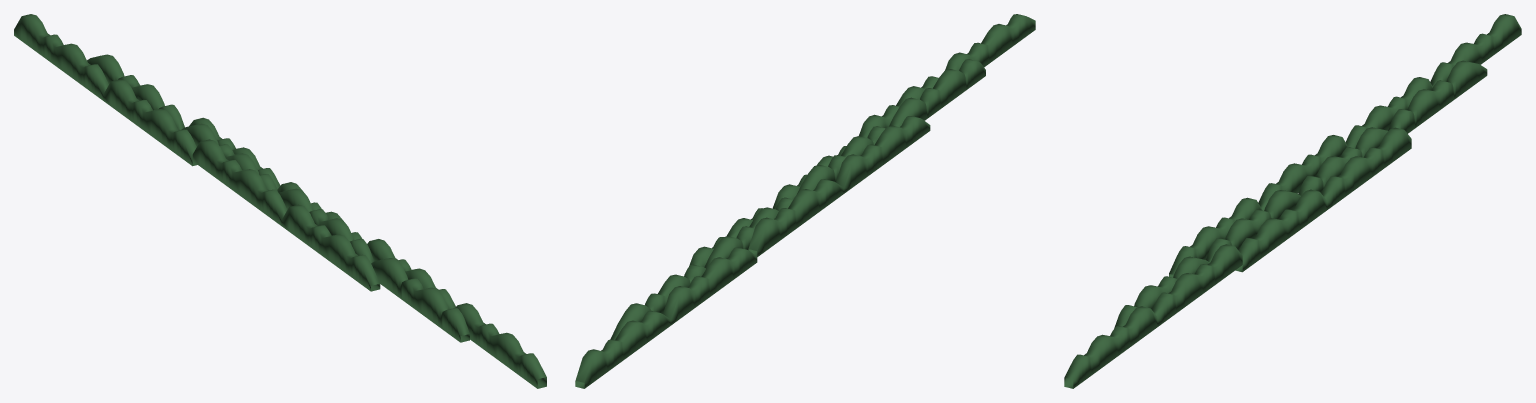
The model's file is arbustos.fbx.
3 views of the same model, side by side, from view 1: azimuth 30°, elevation 25°; view 2: azimuth 150°, elevation 25°; view 3: azimuth 330°, elevation 25° (orthographic). The views are drawn at different scales.
Parts seen in each view (by area): view 1: arbolesPrimerPlano3, arbolesPrimerPlano3.001, arbolesPrimerPlano2, arbolesPrimerPlano1, arbolesPrimerPlano2.001, arbolesPrimerPlano1.001; view 2: arbolesPrimerPlano3.001, arbolesPrimerPlano3, arbolesPrimerPlano2, arbolesPrimerPlano1, arbolesPrimerPlano2.001, arbolesPrimerPlano1.001; view 3: arbolesPrimerPlano1, arbolesPrimerPlano1.001, arbolesPrimerPlano2.001, arbolesPrimerPlano3.001, arbolesPrimerPlano3, arbolesPrimerPlano2.
Boxes of the visible parts, bbox=[...] form: arbolesPrimerPlano3: bbox=[192, 139, 380, 291]; arbolesPrimerPlano3.001: bbox=[14, 14, 197, 166]; arbolesPrimerPlano2: bbox=[279, 188, 469, 342]; arbolesPrimerPlano1: bbox=[367, 239, 546, 388]; arbolesPrimerPlano2.001: bbox=[87, 54, 277, 191]; arbolesPrimerPlano1.001: bbox=[189, 117, 362, 240]; arbolesPrimerPlano3.001: bbox=[575, 247, 757, 388]; arbolesPrimerPlano3: bbox=[748, 116, 930, 256]; arbolesPrimerPlano2: bbox=[797, 59, 985, 193]; arbolesPrimerPlano1: bbox=[859, 14, 1035, 137]; arbolesPrimerPlano2.001: bbox=[610, 197, 793, 339]; arbolesPrimerPlano1.001: bbox=[689, 146, 846, 266]; arbolesPrimerPlano1: bbox=[1064, 244, 1242, 388]; arbolesPrimerPlano1.001: bbox=[1235, 127, 1411, 272]; arbolesPrimerPlano2.001: bbox=[1298, 60, 1487, 195]; arbolesPrimerPlano3.001: bbox=[1345, 14, 1521, 148]; arbolesPrimerPlano3: bbox=[1169, 135, 1347, 277]; arbolesPrimerPlano2: bbox=[1114, 190, 1300, 328].
Size of the model in its own units: 1274 by 1232 by 28411.
